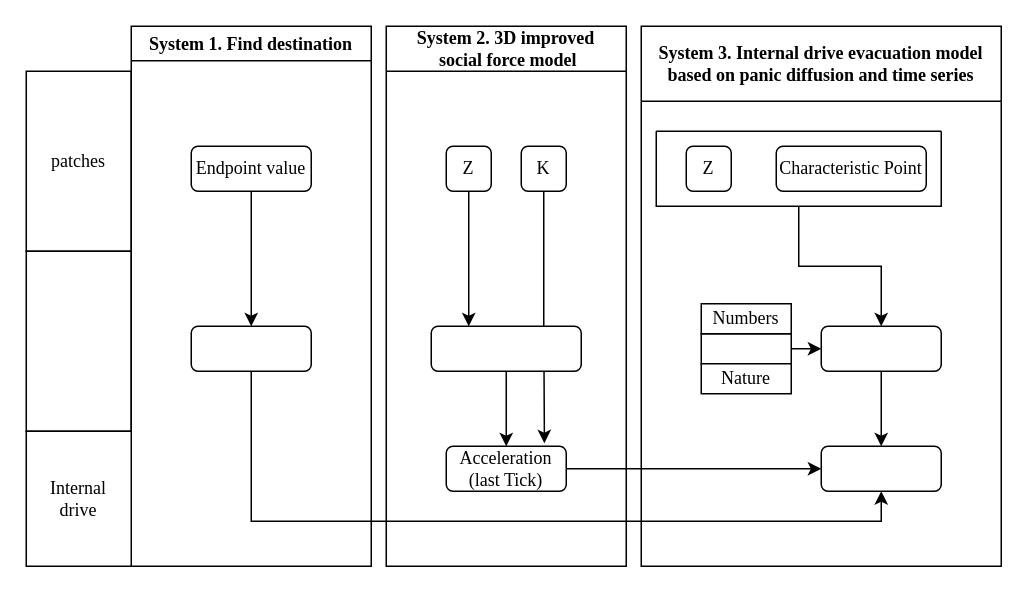
Some shapes in this 1028 by 593 pixel diagram are drawn without their labels. The shapes that lost their labels are listed below. From the top down, each one's centre as x and y in pixels, then its label:
At (x=78, y=340): "humans".
At (x=250, y=348): "orientation".
At (x=505, y=348): "Collision/Across".
At (x=745, y=348): "Emotion".
At (x=880, y=348): "Rate the path".
At (x=880, y=468): "Move (last Tick)".
